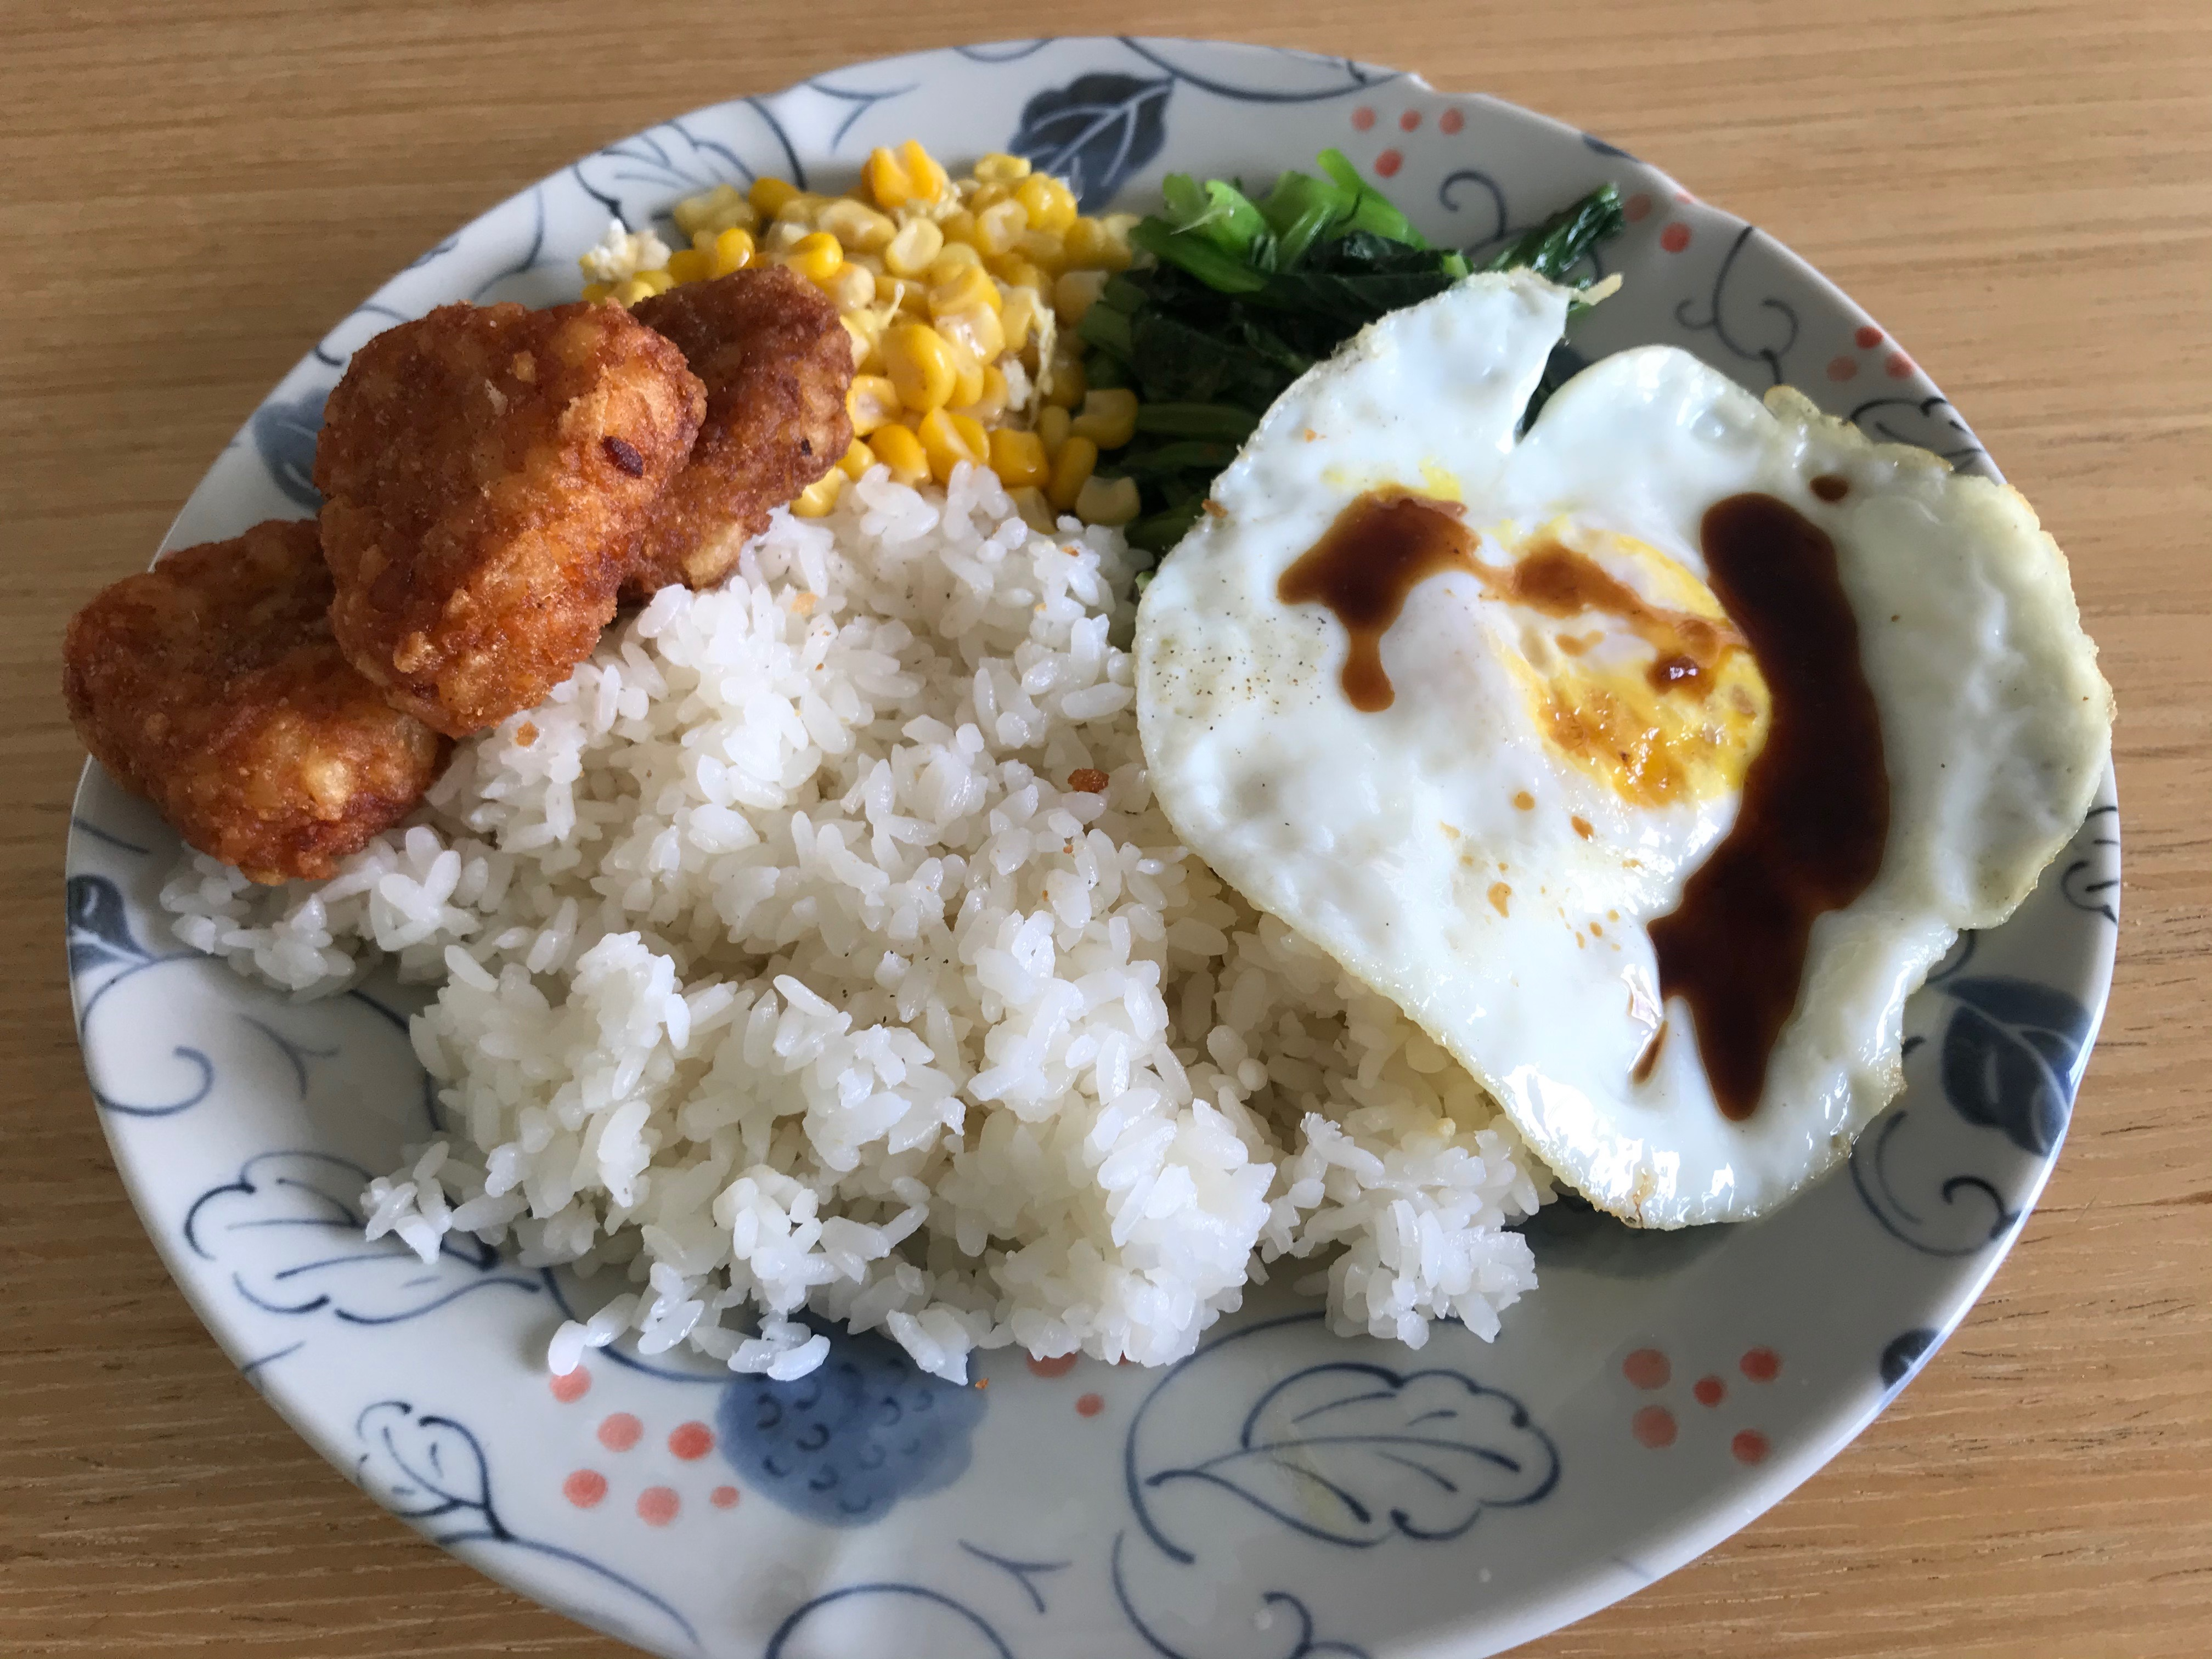fried_eggs: (1132, 270, 2113, 1232)
rice: (399, 579, 1238, 1375)
triangle_hash_brown: (66, 270, 855, 890)
